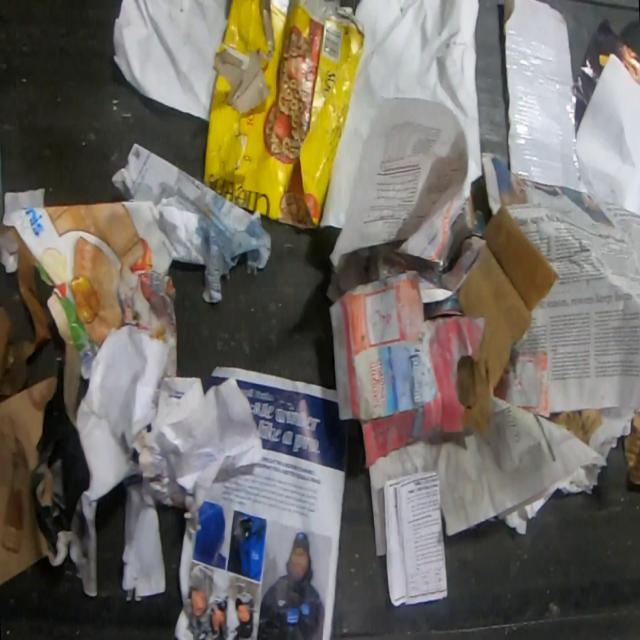cardboard: (201, 0, 366, 229), (329, 268, 485, 469), (456, 205, 561, 438), (502, 0, 587, 193), (622, 407, 639, 491)
